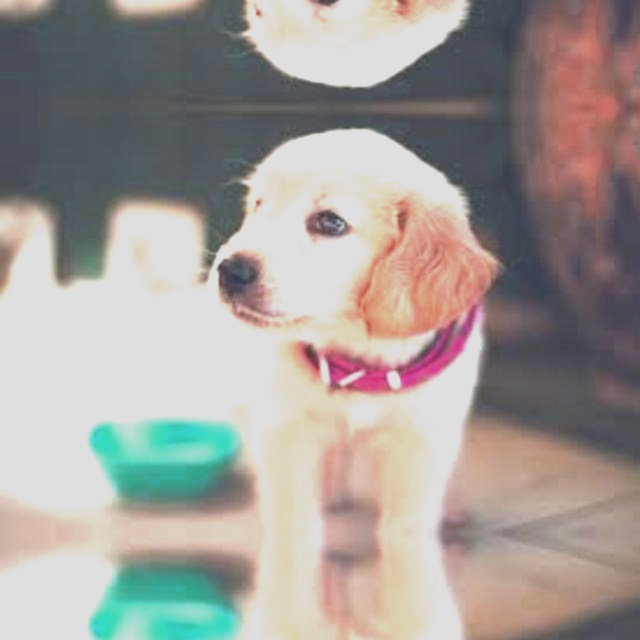dog: (201, 136, 501, 532), (201, 532, 501, 640), (201, 0, 501, 78)
